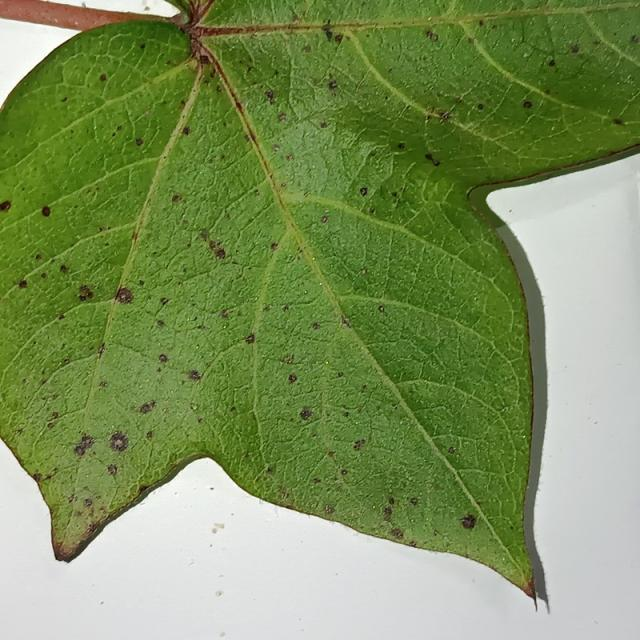Bacterial_Blight: (379, 492, 424, 528), (210, 239, 233, 262), (73, 434, 95, 457), (108, 431, 130, 452), (322, 24, 341, 45), (115, 286, 134, 304), (78, 284, 94, 301), (461, 514, 477, 530), (139, 400, 156, 414), (425, 153, 439, 166), (188, 369, 201, 381), (299, 408, 312, 420), (353, 439, 365, 451), (211, 523, 224, 534), (97, 343, 106, 358), (426, 30, 438, 41), (107, 464, 118, 476), (0, 200, 11, 212), (439, 112, 451, 122), (265, 90, 275, 102), (41, 205, 51, 217), (234, 100, 244, 112), (245, 333, 255, 344), (341, 316, 351, 327), (74, 445, 84, 456), (288, 373, 298, 383), (158, 353, 168, 363), (199, 54, 209, 64), (285, 354, 294, 364), (209, 240, 218, 250), (172, 194, 182, 203), (199, 230, 208, 240), (60, 264, 69, 274), (18, 279, 28, 288), (245, 132, 254, 142), (328, 80, 338, 89), (570, 44, 580, 53), (383, 507, 393, 516), (83, 498, 93, 507), (33, 472, 42, 482), (138, 484, 149, 492), (160, 297, 169, 306), (135, 137, 144, 146), (278, 112, 287, 121), (270, 242, 279, 251), (50, 411, 59, 420), (302, 44, 311, 53), (322, 23, 331, 32), (291, 13, 300, 22), (325, 506, 335, 514), (182, 126, 190, 135), (78, 294, 87, 302), (99, 73, 107, 82), (359, 187, 367, 196), (410, 498, 419, 506), (523, 101, 532, 109), (629, 35, 638, 43), (614, 118, 624, 125), (131, 232, 138, 242), (221, 310, 229, 318), (272, 144, 280, 152), (548, 59, 556, 67), (448, 446, 456, 454), (156, 320, 164, 327), (378, 305, 385, 313), (327, 451, 335, 458), (359, 268, 367, 275), (397, 142, 405, 149), (312, 322, 319, 330), (388, 497, 395, 505), (313, 477, 321, 484), (266, 467, 273, 475), (47, 421, 55, 428), (99, 381, 107, 388), (209, 70, 216, 78), (215, 590, 223, 597), (146, 431, 152, 440), (408, 541, 417, 547), (286, 154, 293, 161), (320, 121, 327, 128), (321, 216, 328, 223), (282, 305, 289, 312), (341, 469, 348, 476), (58, 313, 65, 320), (477, 103, 484, 110), (343, 411, 350, 418), (369, 207, 376, 214), (35, 254, 42, 261), (216, 84, 222, 92), (593, 39, 601, 45), (138, 280, 145, 286), (254, 189, 260, 196), (468, 37, 474, 44), (140, 43, 146, 50), (478, 19, 484, 26), (230, 405, 236, 412), (338, 371, 344, 377), (116, 125, 122, 131), (197, 417, 203, 423), (63, 358, 69, 364), (191, 404, 197, 410), (211, 528, 217, 534), (61, 97, 68, 102), (326, 19, 331, 24)
Cotton: (0, 0, 639, 587)
